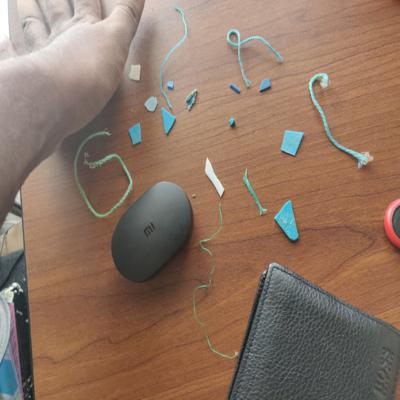plastic: (272, 198, 304, 243), (202, 154, 226, 197), (278, 126, 305, 159), (183, 87, 203, 114), (160, 105, 177, 136), (129, 121, 144, 148), (126, 61, 144, 83), (228, 79, 247, 97), (142, 95, 159, 115), (256, 77, 272, 95), (165, 78, 179, 92), (227, 116, 239, 129)
thread: (191, 202, 240, 368), (308, 71, 376, 171), (70, 126, 138, 224), (226, 26, 287, 90), (160, 5, 190, 114), (238, 170, 266, 218)
